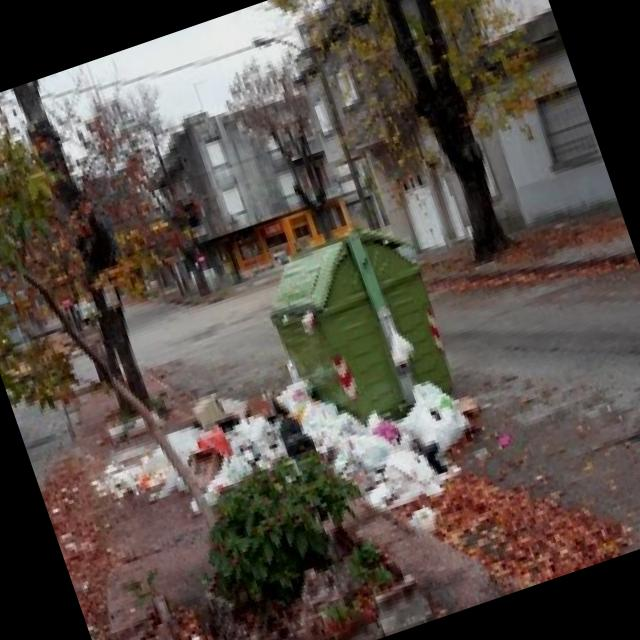high trash: (96, 356, 484, 510)
less trash: (409, 506, 436, 532)
